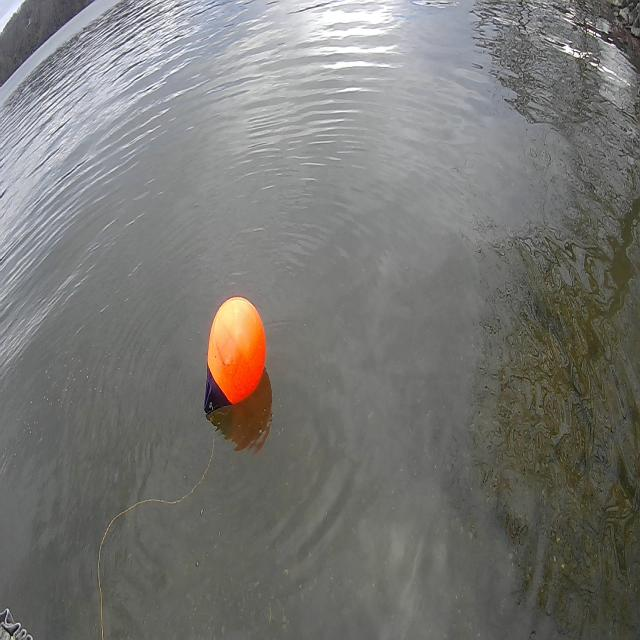Buoy: (194, 279, 274, 434)
